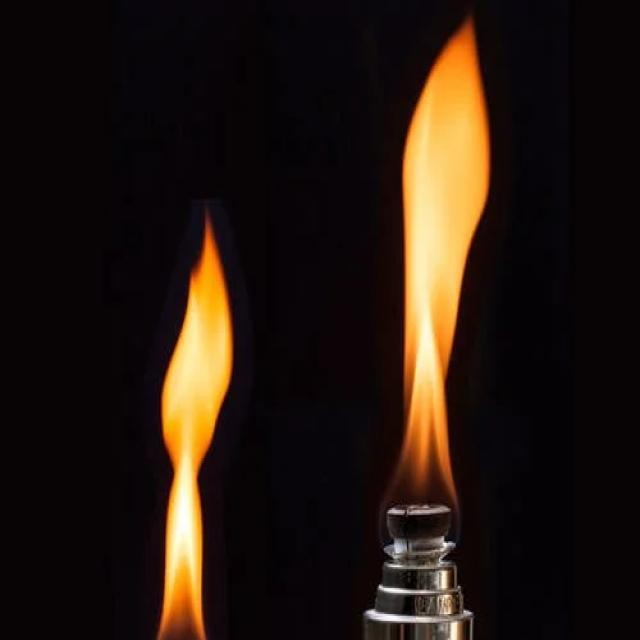fire: (386, 13, 500, 567), (150, 202, 248, 638)
